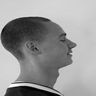ear: (21, 34, 45, 58)
